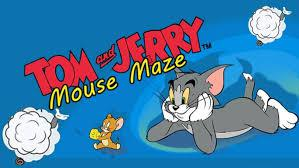tom: (146, 62, 299, 160)
